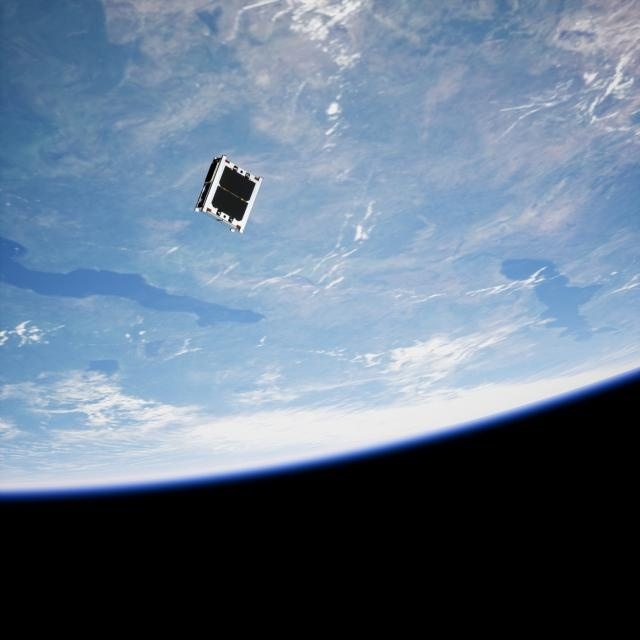medium_debris: (192, 153, 262, 243)
